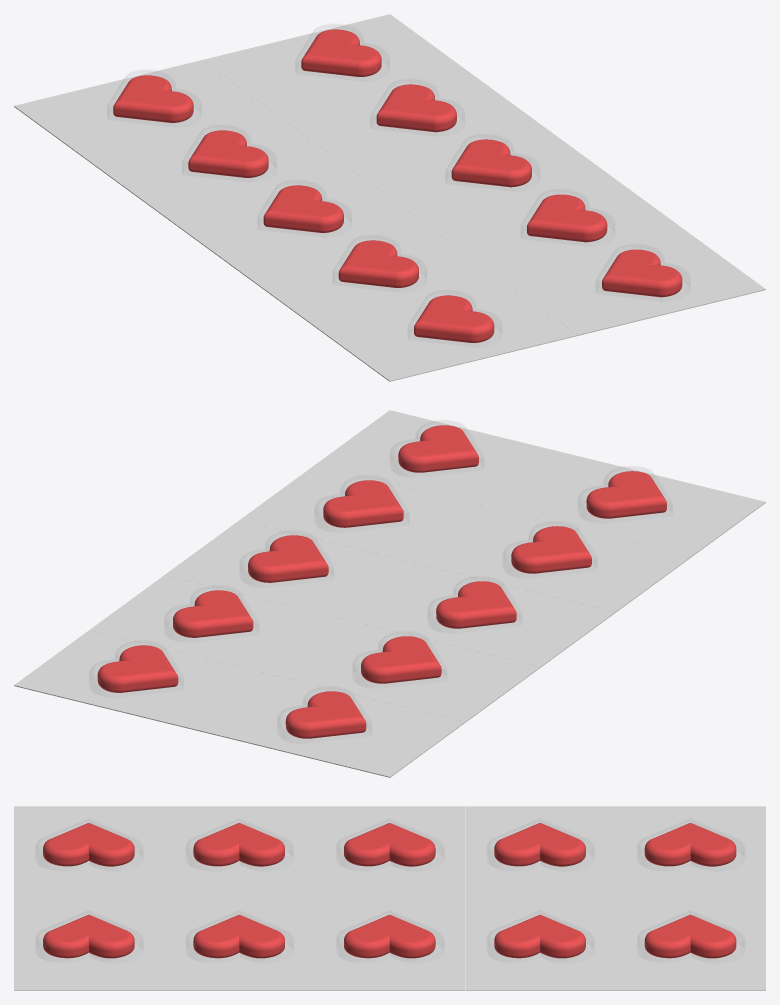
Rendered from Heart_Pill_2x5_Red.glb.
The picture shows the model from 3 angles, top to bottom: view 1: azimuth 30°, elevation 25°; view 2: azimuth 150°, elevation 25°; view 3: azimuth 270°, elevation 25°; orthographic projection.
Visible parts, largest first — view 1: Heart_Pill_Base_2x5, Heart_Pill_2x5, Heart_Pill_Shell_2x5, Heart_Pill_Lid_2x5; view 2: Heart_Pill_Base_2x5, Heart_Pill_2x5, Heart_Pill_Shell_2x5, Heart_Pill_Lid_2x5; view 3: Heart_Pill_Base_2x5, Heart_Pill_2x5, Heart_Pill_Lid_2x5, Heart_Pill_Shell_2x5.
Boxes of the visible parts, x1,y1,x2,y2 form: Heart_Pill_Base_2x5: (14,14,765,381); Heart_Pill_2x5: (113,29,682,342); Heart_Pill_Shell_2x5: (107,24,689,337); Heart_Pill_Lid_2x5: (106,44,690,347); Heart_Pill_Base_2x5: (14,410,765,777); Heart_Pill_2x5: (97,425,666,738); Heart_Pill_Shell_2x5: (89,420,672,734); Heart_Pill_Lid_2x5: (88,457,672,743); Heart_Pill_Base_2x5: (14,806,765,990); Heart_Pill_2x5: (43,823,736,958); Heart_Pill_Lid_2x5: (35,852,745,963); Heart_Pill_Shell_2x5: (36,819,744,949).
Size of the model in its own units: 6.8 by 0.336 by 11.77.
